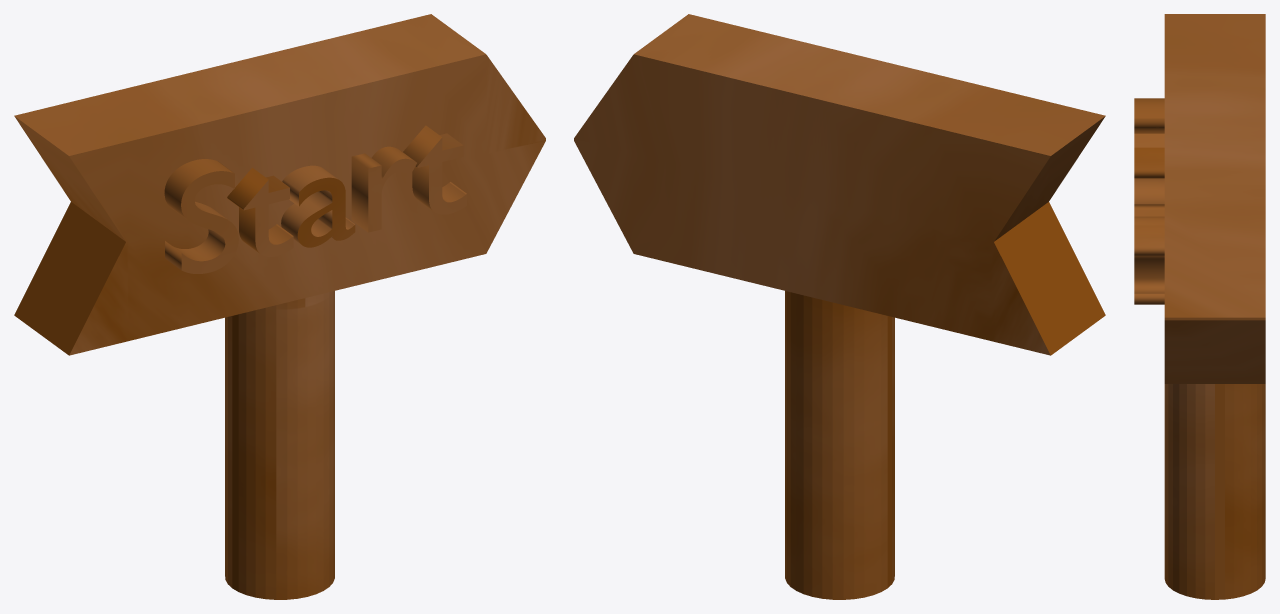
Rendered from SignBoard.obj.
3 views of the same model, side by side, from view 1: azimuth 30°, elevation 25°; view 2: azimuth 150°, elevation 25°; view 3: azimuth 270°, elevation 25° (orthographic). The views are drawn at different scales.
Visible parts, largest first — view 1: テキスト; view 2: テキスト; view 3: テキスト.
Part boxes in pixels (x1,y1,x2,y2): テキスト: (14,14,545,599); テキスト: (574,14,1105,599); テキスト: (1134,14,1265,599).
Bounding box in the file's own units: 1 × 1 × 0.26.
Materials: 1 (1 with a texture image).
